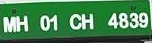character: (81, 11, 93, 30), (2, 16, 16, 32), (16, 14, 28, 32), (68, 13, 81, 29), (118, 11, 129, 29), (128, 11, 139, 29), (39, 14, 50, 31), (107, 12, 118, 29), (137, 11, 148, 28), (49, 14, 58, 31)
